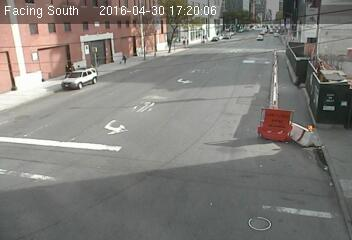neg: (147, 61, 174, 97), (242, 71, 260, 95)
pos: (63, 60, 74, 75)
